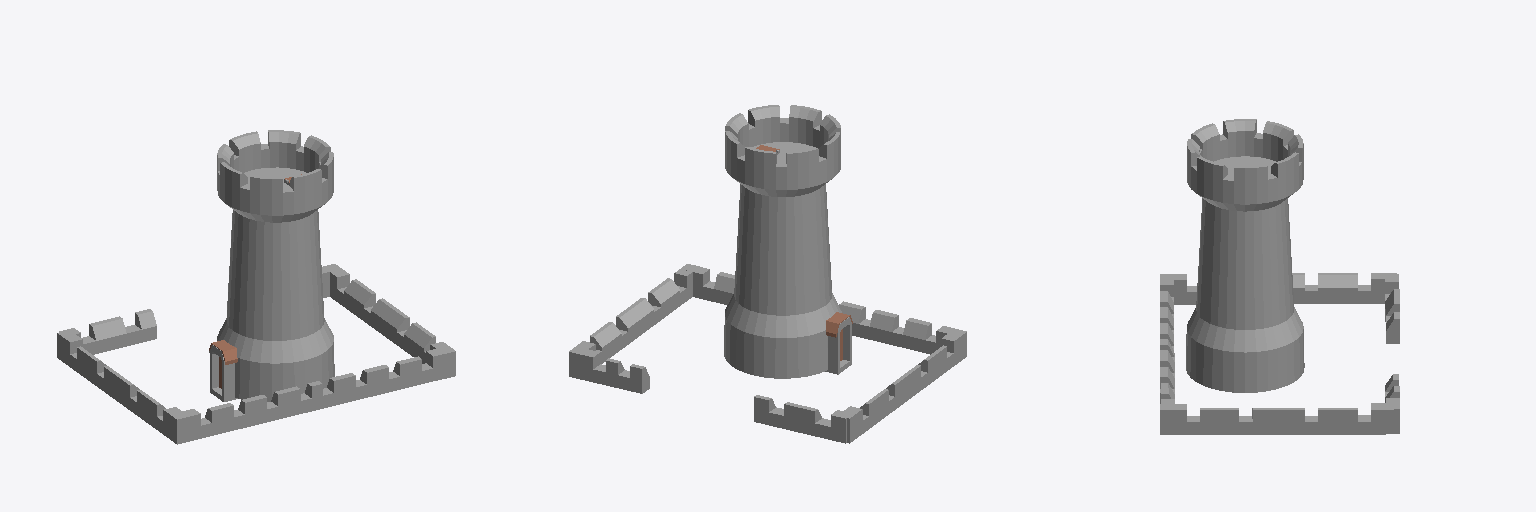
The model's file is tower.obj.
3 views of the same model, side by side, from view 1: azimuth 30°, elevation 25°; view 2: azimuth 150°, elevation 25°; view 3: azimuth 270°, elevation 25° (orthographic).
Visible parts, largest first — view 1: Cylinder.002, Cube.017_Cube.031; view 2: Cylinder.002, Cube.017_Cube.031; view 3: Cylinder.002, Cube.017_Cube.031.
Boxes of the visible parts, x1,y1,x2,y2 form: Cylinder.002: [209, 130, 334, 401]; Cube.017_Cube.031: [57, 264, 455, 444]; Cylinder.002: [724, 105, 852, 378]; Cube.017_Cube.031: [569, 264, 966, 443]; Cylinder.002: [1186, 119, 1304, 392]; Cube.017_Cube.031: [1160, 273, 1399, 434].
Bounding box in the file's own units: 14.47 × 11.17 × 10.75.